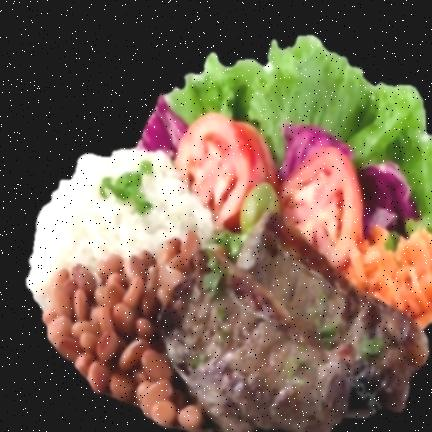beans: (43, 239, 217, 430)
carrot: (342, 223, 432, 325)
meat: (165, 213, 427, 432)
rice: (27, 153, 219, 311)
salad: (167, 37, 432, 247)
tomato: (174, 114, 365, 272)
